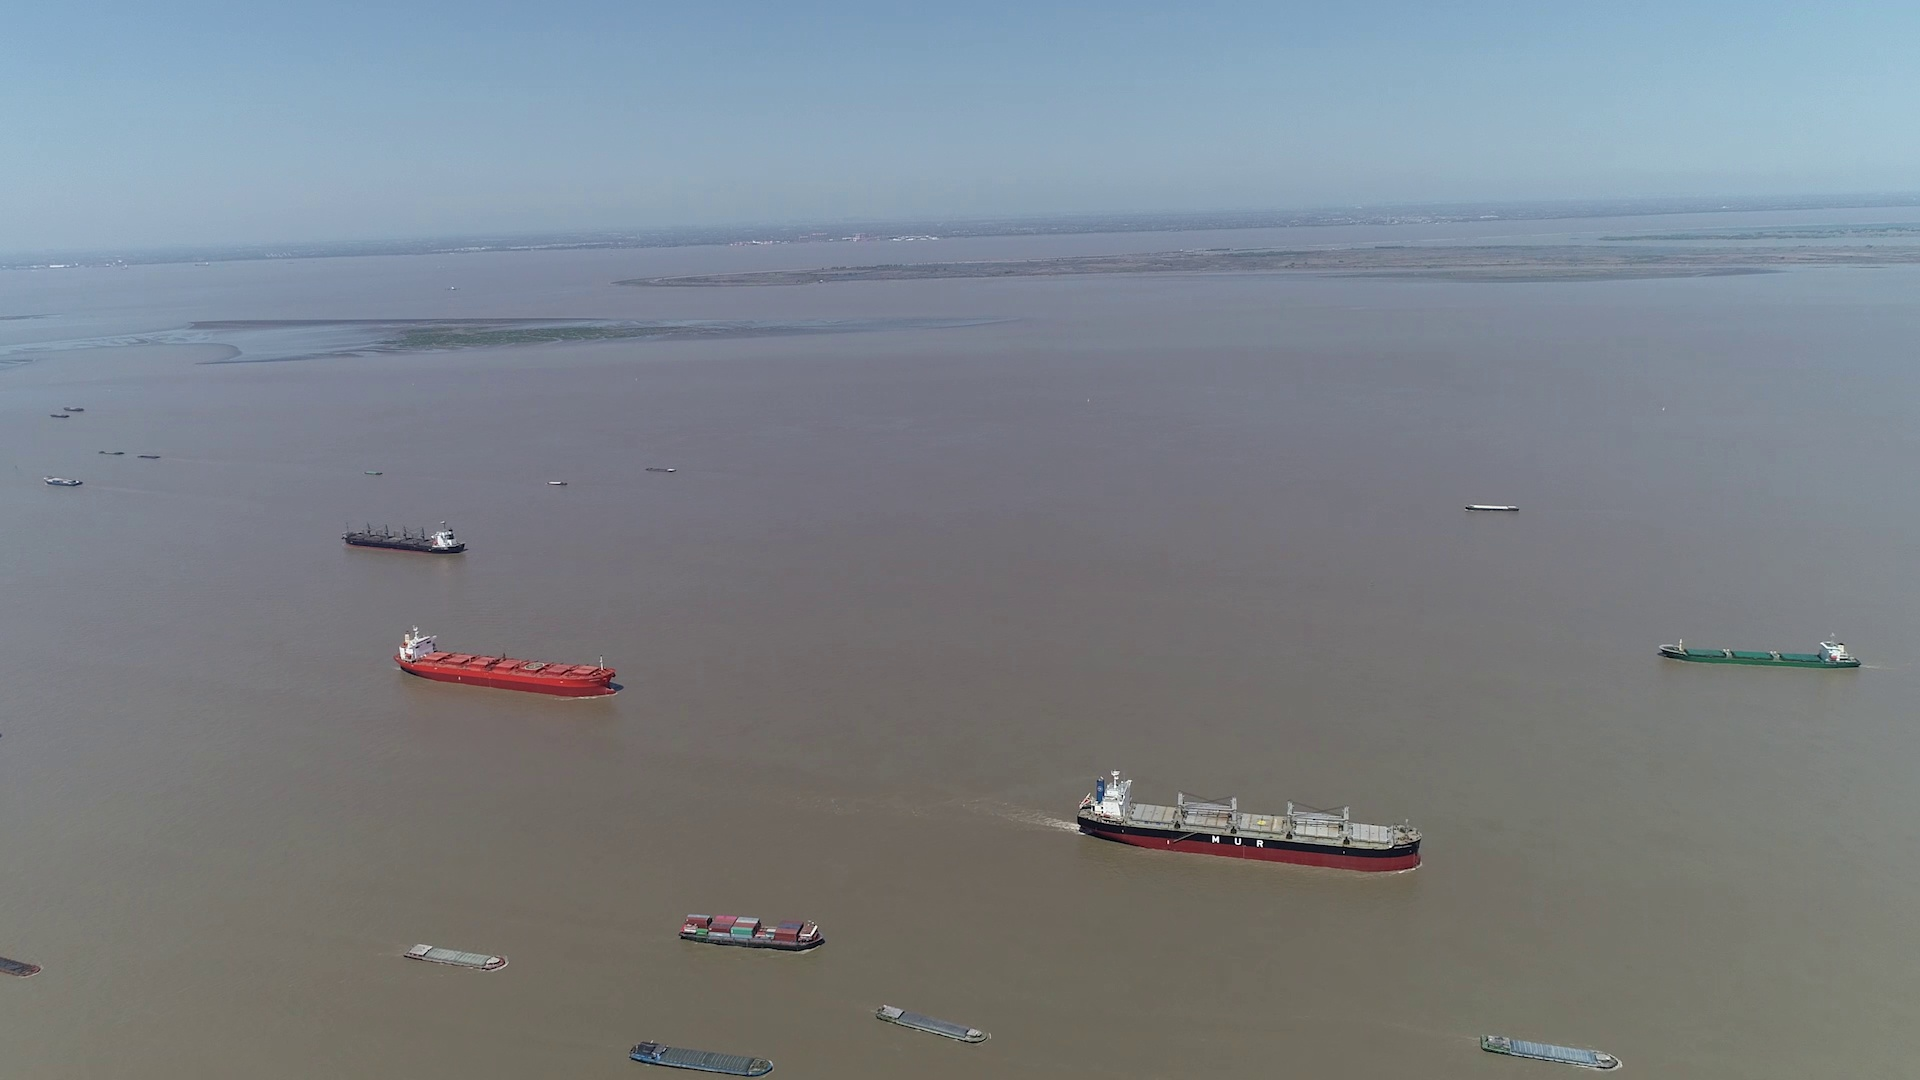ship: (1077, 771, 1423, 870), (394, 629, 615, 698), (1660, 637, 1859, 670), (678, 914, 823, 953), (1480, 1033, 1623, 1072), (630, 1040, 773, 1077), (876, 1004, 988, 1047), (342, 521, 465, 553), (404, 942, 506, 971), (0, 952, 38, 978), (44, 473, 83, 487), (1464, 502, 1518, 512), (644, 465, 678, 472)
